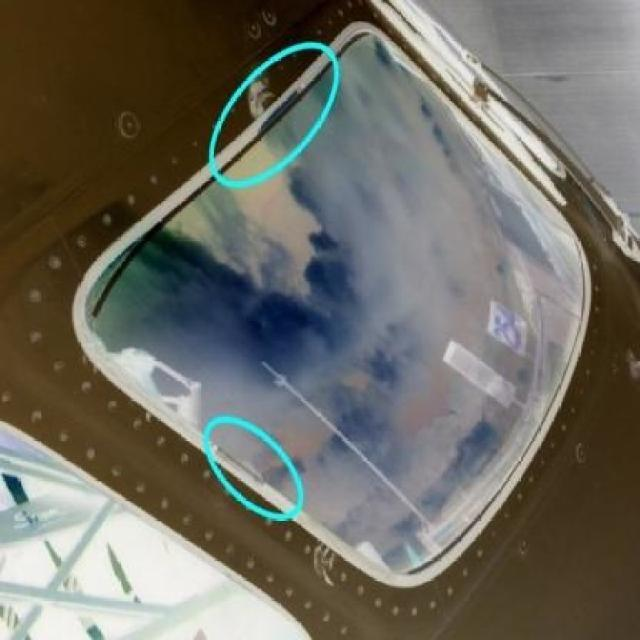crack: (314, 539, 337, 587)
